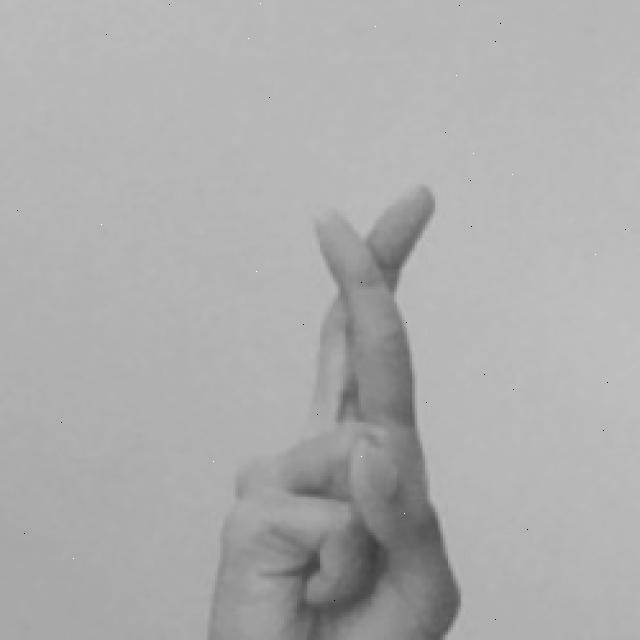R: (204, 176, 468, 640)
